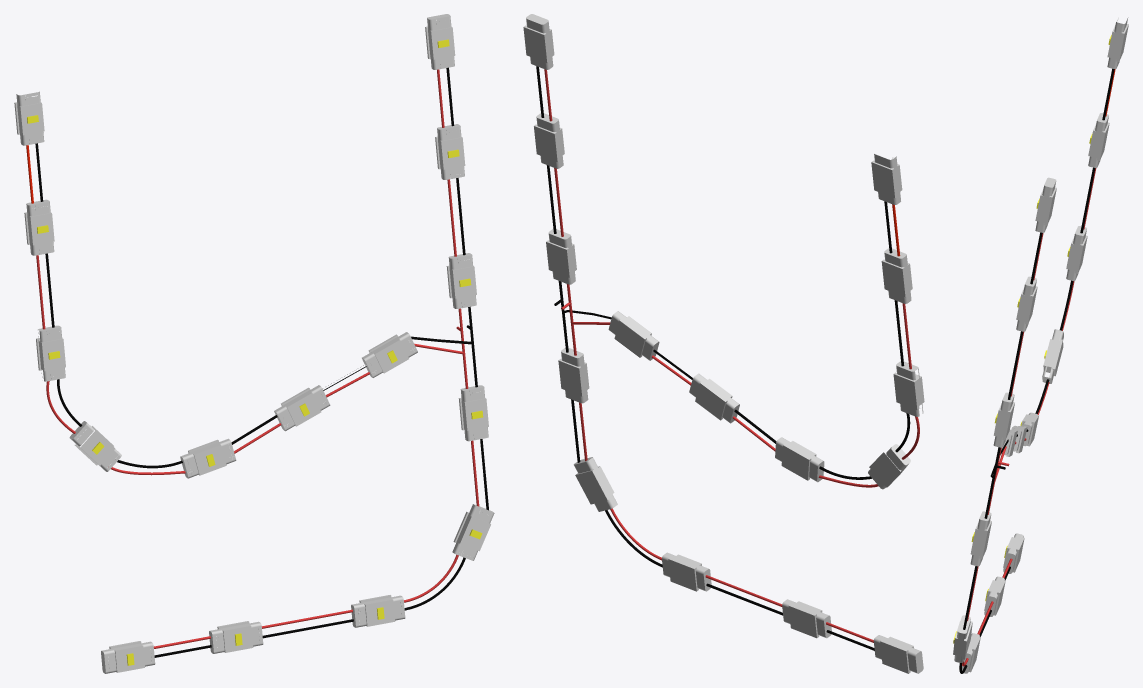
Rendered from FIXED-led.glb.
3 views of the same model, side by side, from view 1: azimuth 30°, elevation 25°; view 2: azimuth 150°, elevation 25°; view 3: azimuth 270°, elevation 25° (orthographic). The views are drawn at different scales.
Parts seen in each view (by area): view 1: fixed-led; view 2: fixed-led; view 3: fixed-led.
Part boxes in pixels (<box>): fixed-led: <box>14,14,494,673</box>; fixed-led: <box>523,14,924,673</box>; fixed-led: <box>953,17,1128,673</box>.
Bounding box in the file's own units: 34.77 × 47.01 × 13.9.
